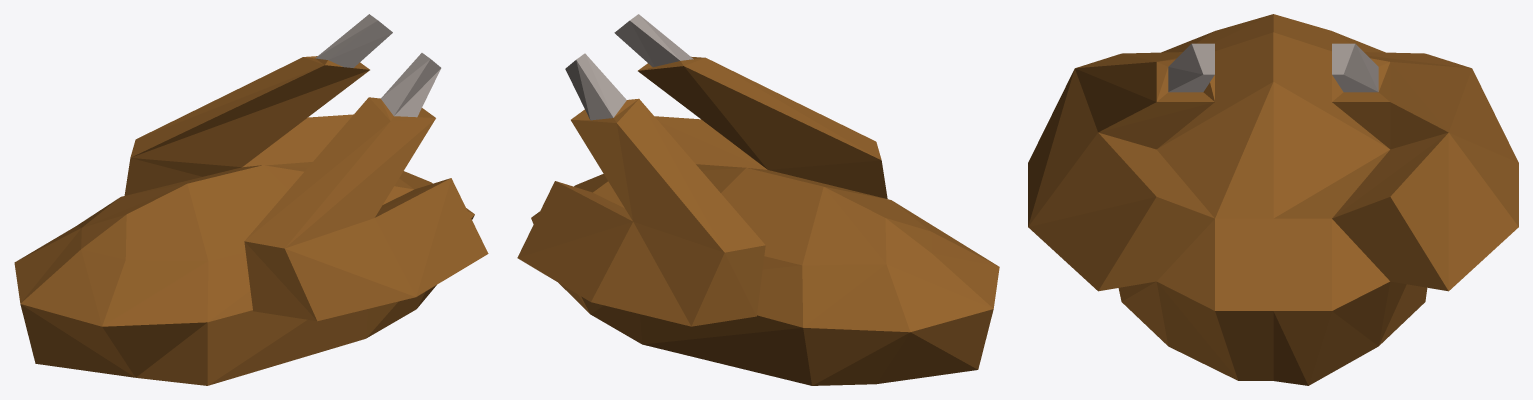
Rendered from inv_seasoned_chompy.obj.
3 views of the same model, side by side, from view 1: azimuth 30°, elevation 25°; view 2: azimuth 150°, elevation 25°; view 3: azimuth 270°, elevation 25° (orthographic). The views are drawn at different scales.
Size of the model in its own units: 0.4453 by 0.2344 by 0.3281.
